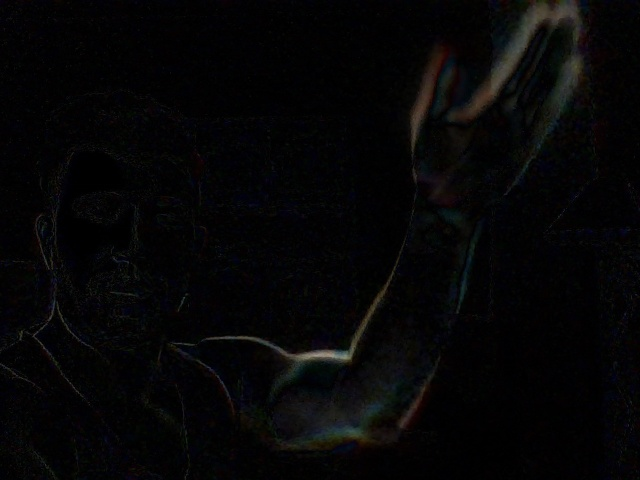arm_fo: (371, 1, 588, 393)
